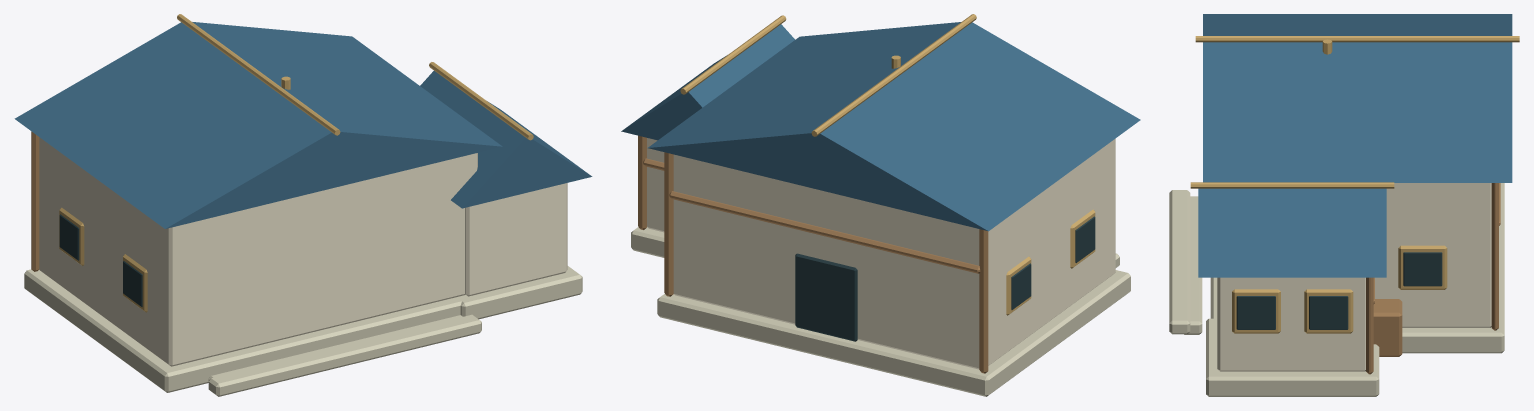
Rendered from level_14.glb.
3 views of the same model, side by side, from view 1: azimuth 30°, elevation 25°; view 2: azimuth 150°, elevation 25°; view 3: azimuth 270°, elevation 25° (orthographic). The views are drawn at different scales.
Parts seen in each view (by area): view 1: warehouse — level 14; view 2: warehouse — level 14; view 3: warehouse — level 14.
Part boxes in pixels (x1,y1,x2,y2): warehouse — level 14: (14,14,592,396); warehouse — level 14: (621,14,1140,396); warehouse — level 14: (1169,14,1519,396).
Size of the model in its own units: 6.68 by 3.47 by 4.65.
